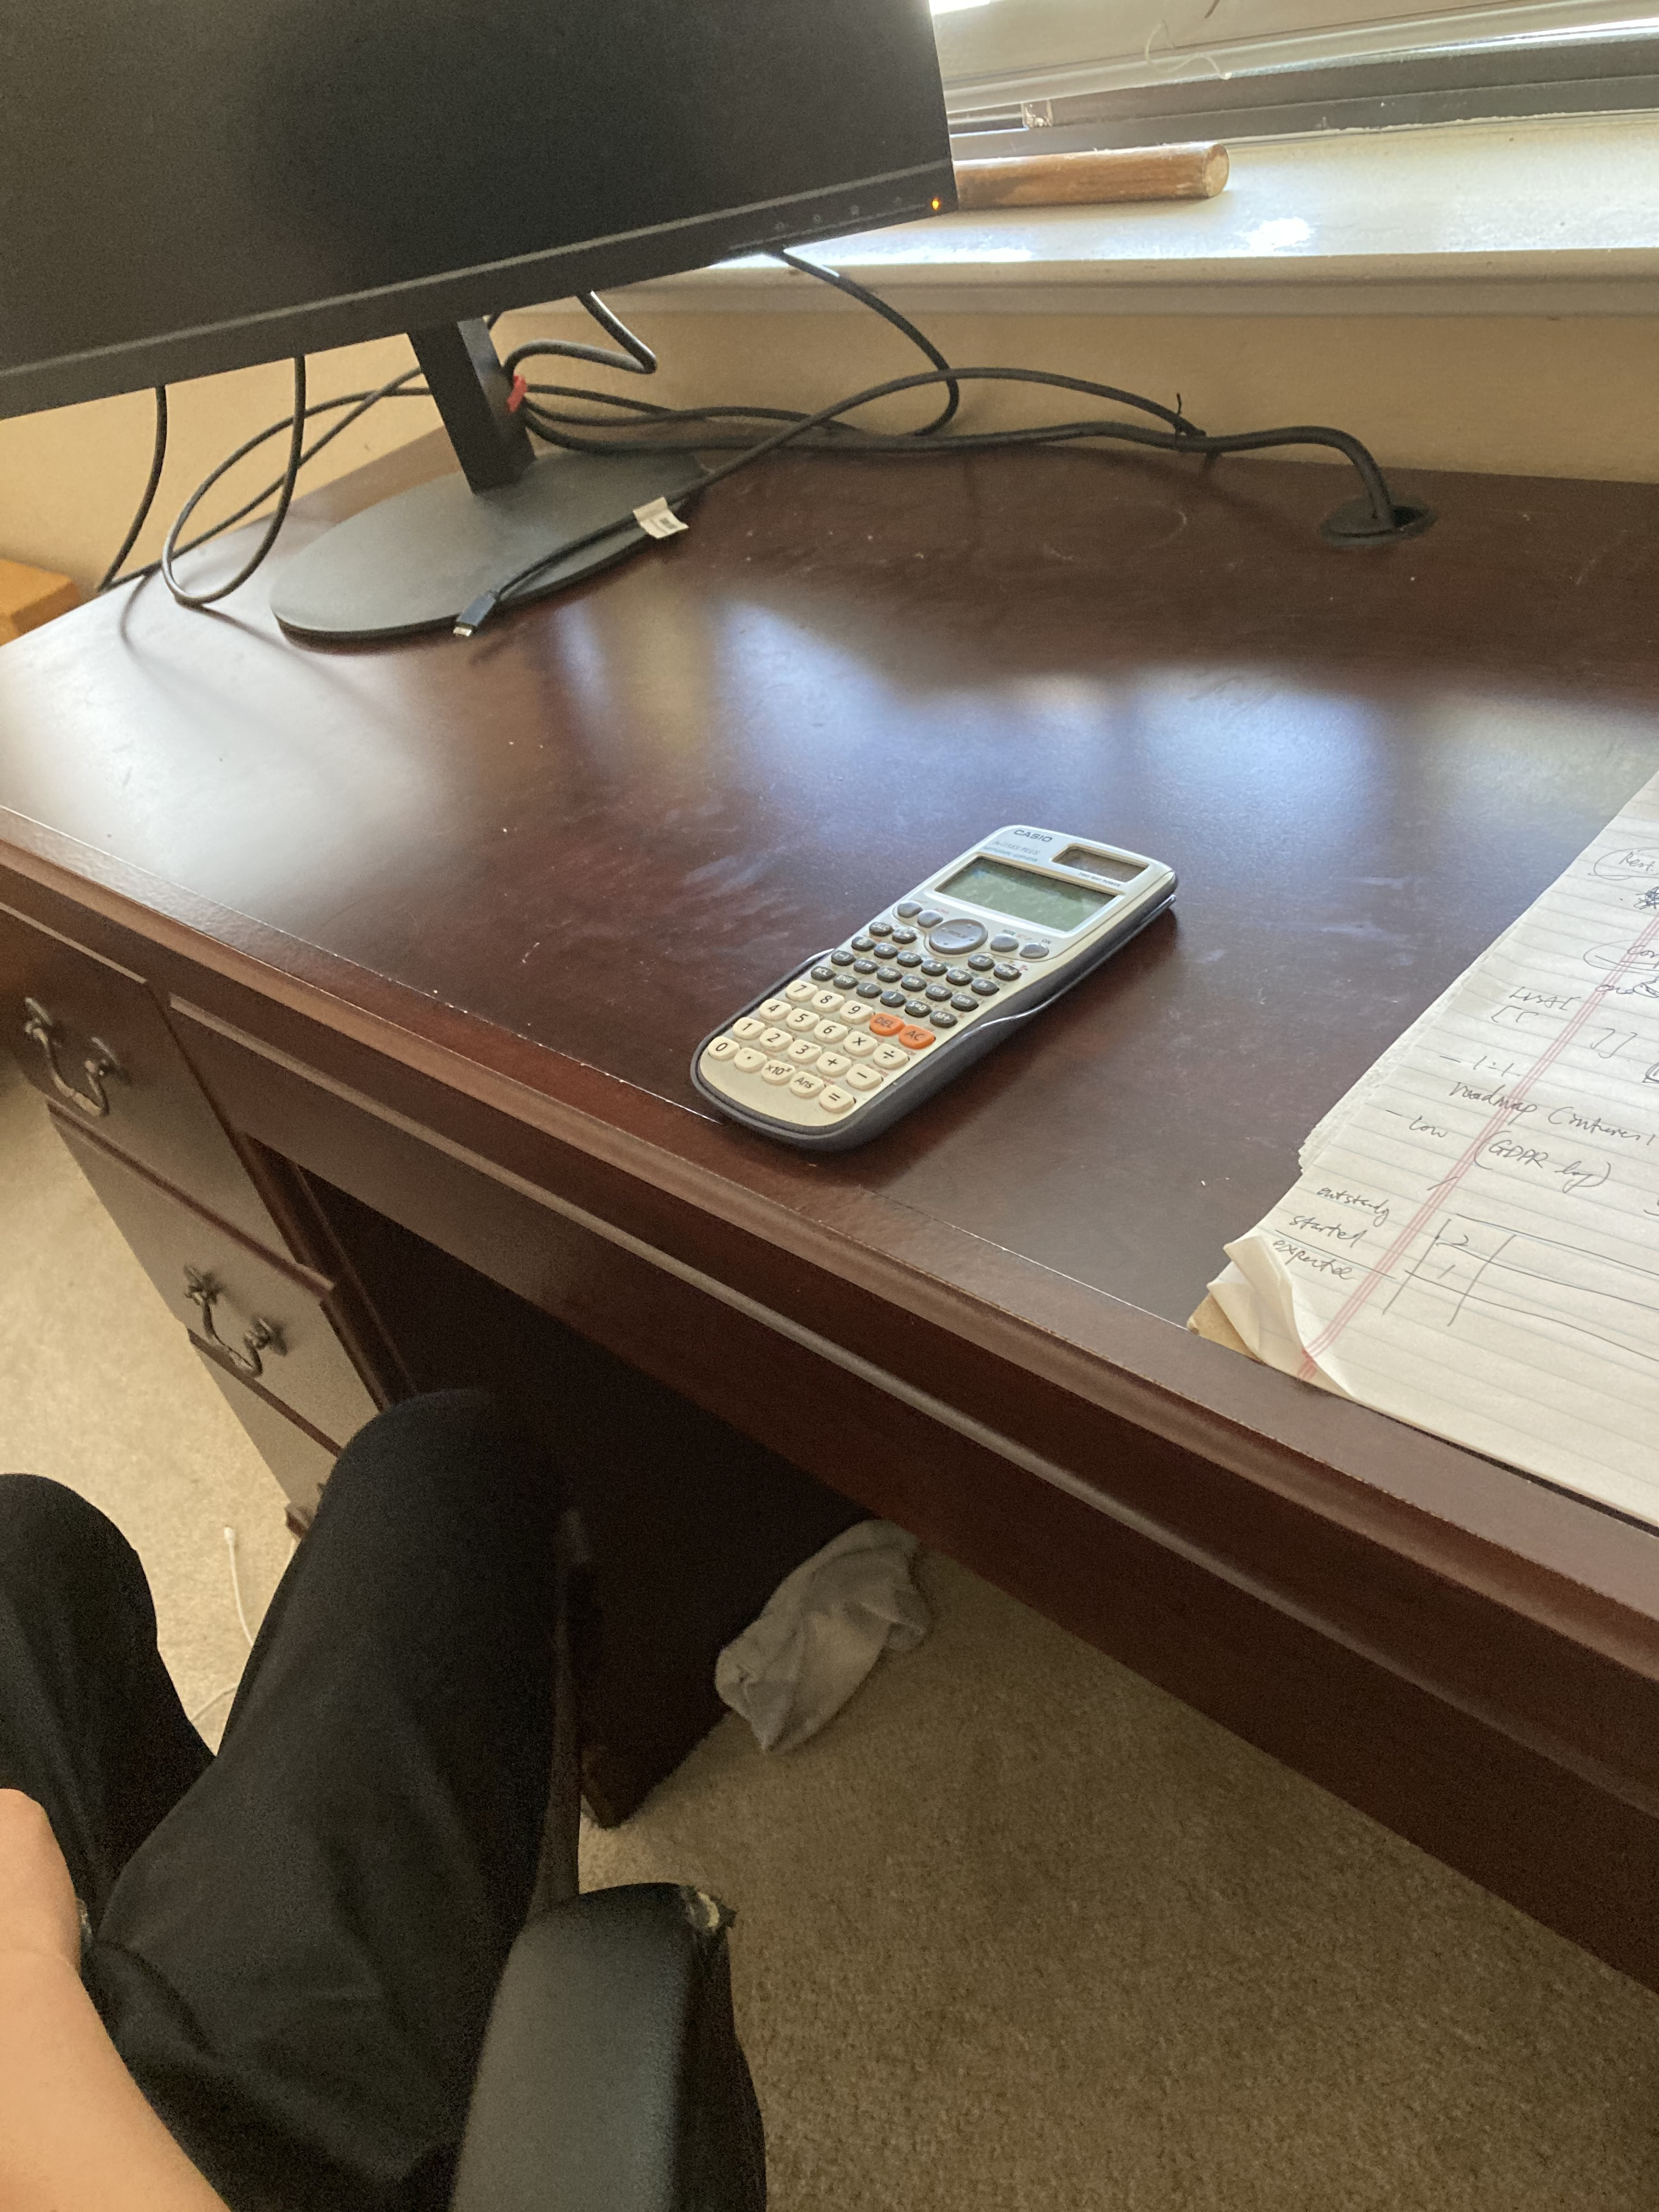Calculator: (702, 822, 1176, 1170)
